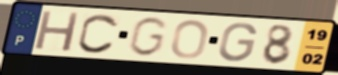8: (261, 23, 297, 66)
C: (75, 12, 121, 55)
G: (125, 15, 170, 58), (216, 21, 259, 64)
H: (32, 8, 83, 53)
O: (169, 18, 211, 60)
